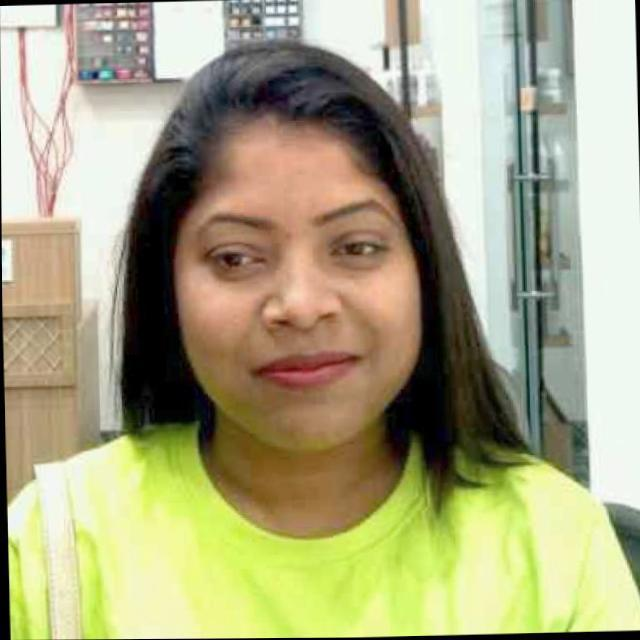puffy_eyes: (332, 253, 384, 271), (209, 263, 262, 280)
